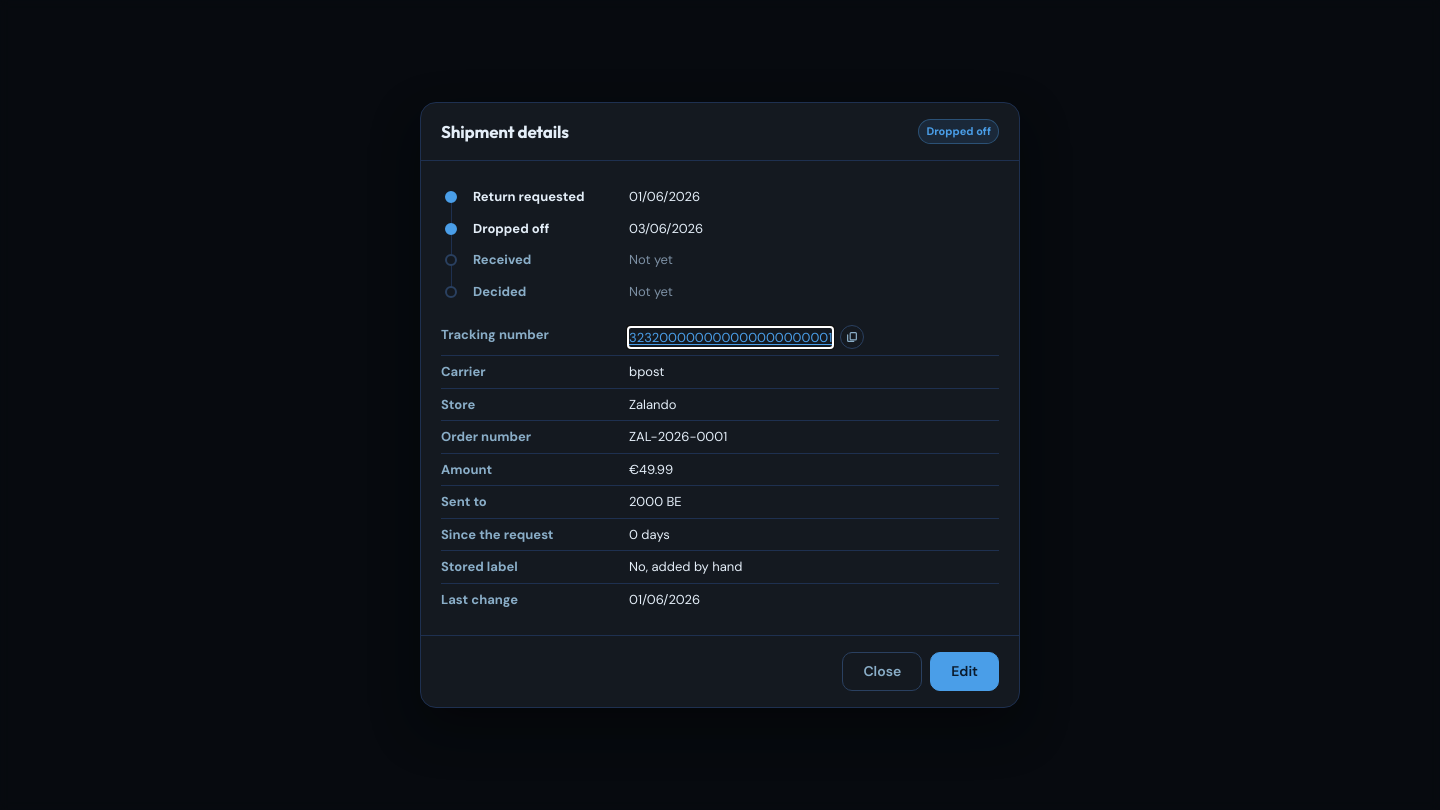
Test: correcting the dates › refuses to erase a date already recorded, pointing at the undo instead
This screenshot has width=1440, height=810.
Click the button "Edit".
click(965, 672)  # box [930,652,999,691]
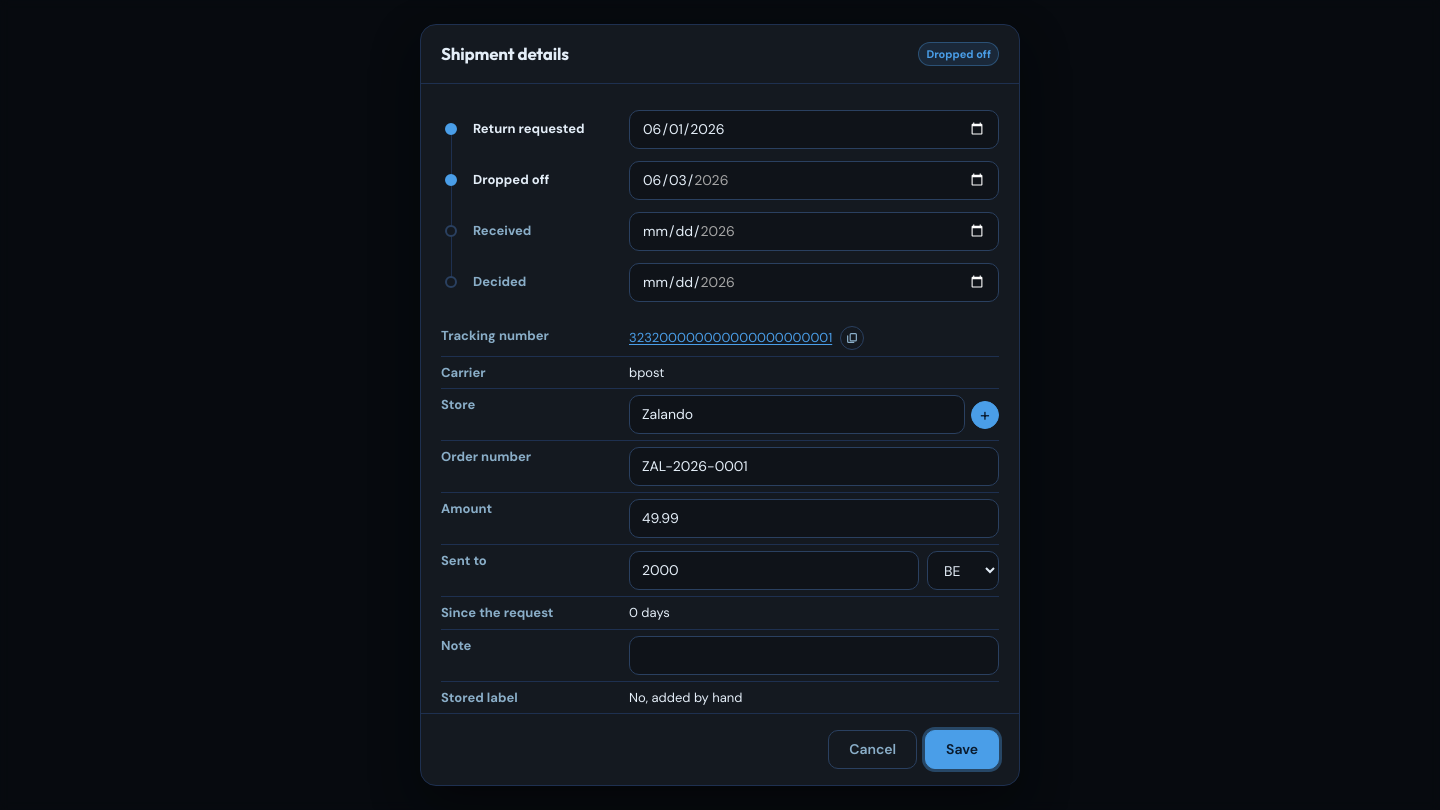
Clear the date field named "Dropped off" at coordinates (814, 180), box [629,160,999,200]
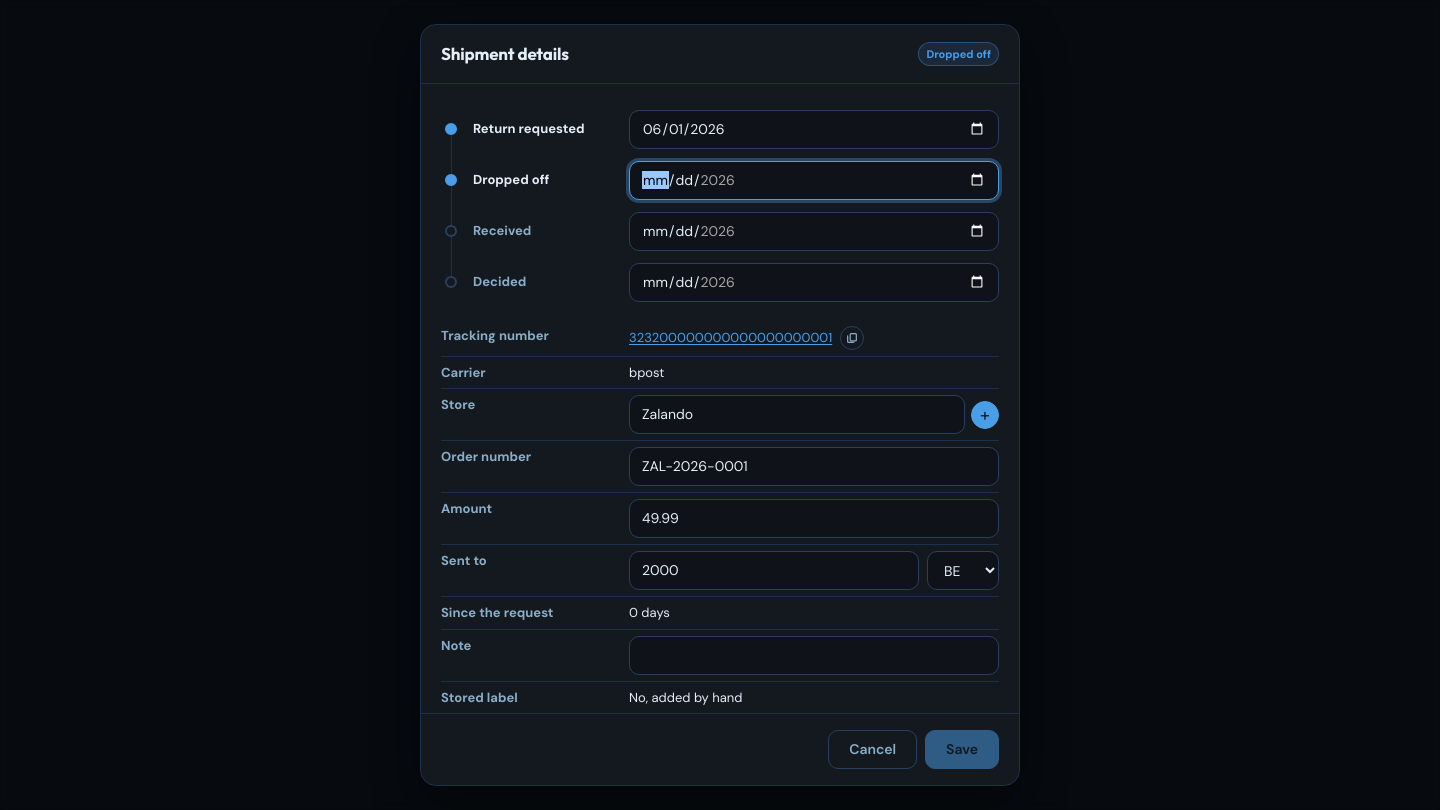
Expected: the button "Save" is disabled, [925,730,999,769]
